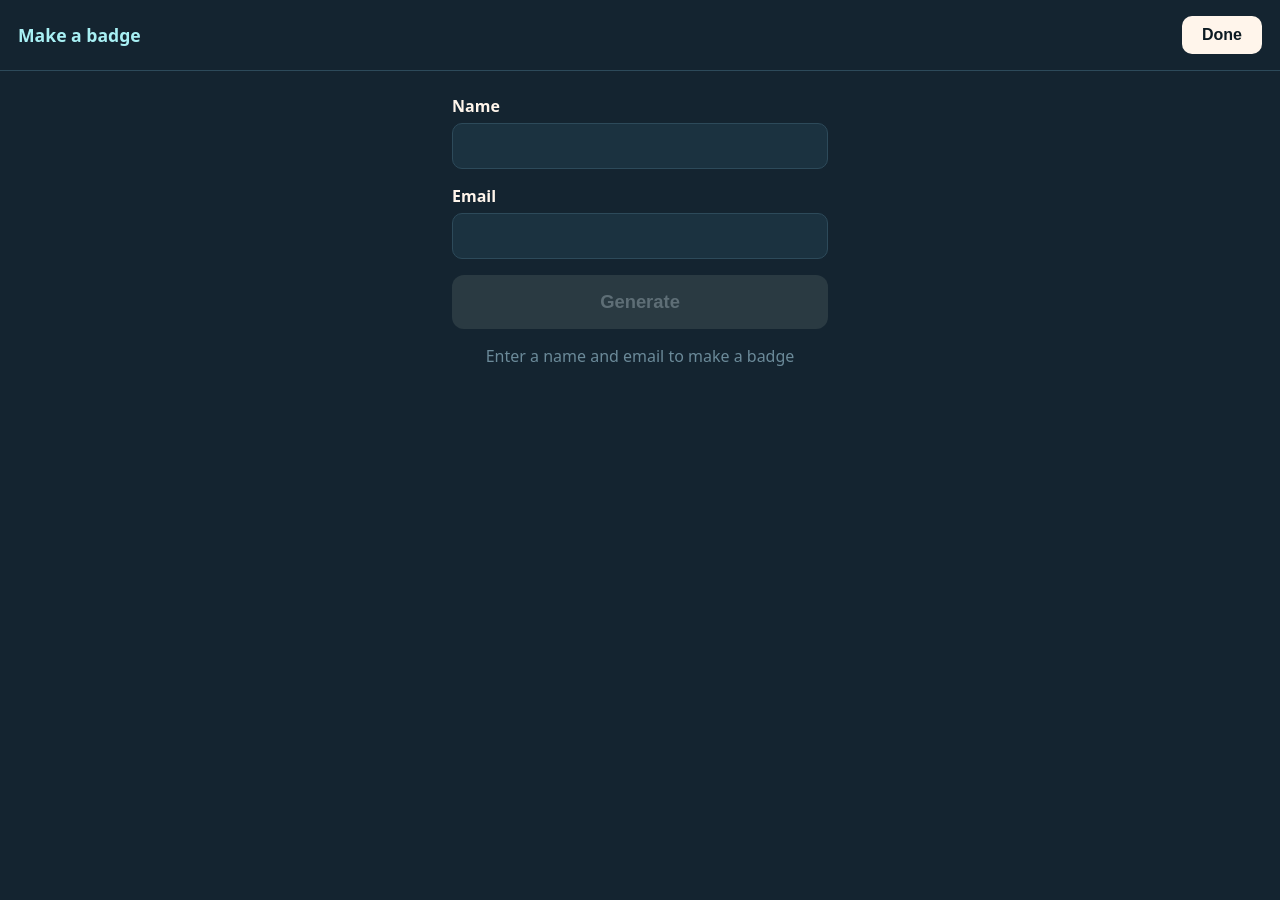
Scenario: BadgeGenerator › shows the cleaned name beneath the rendered Badge
In the field labelled "Name": (640, 146) [452, 123, 828, 169], type "  Ada Lovelace  "
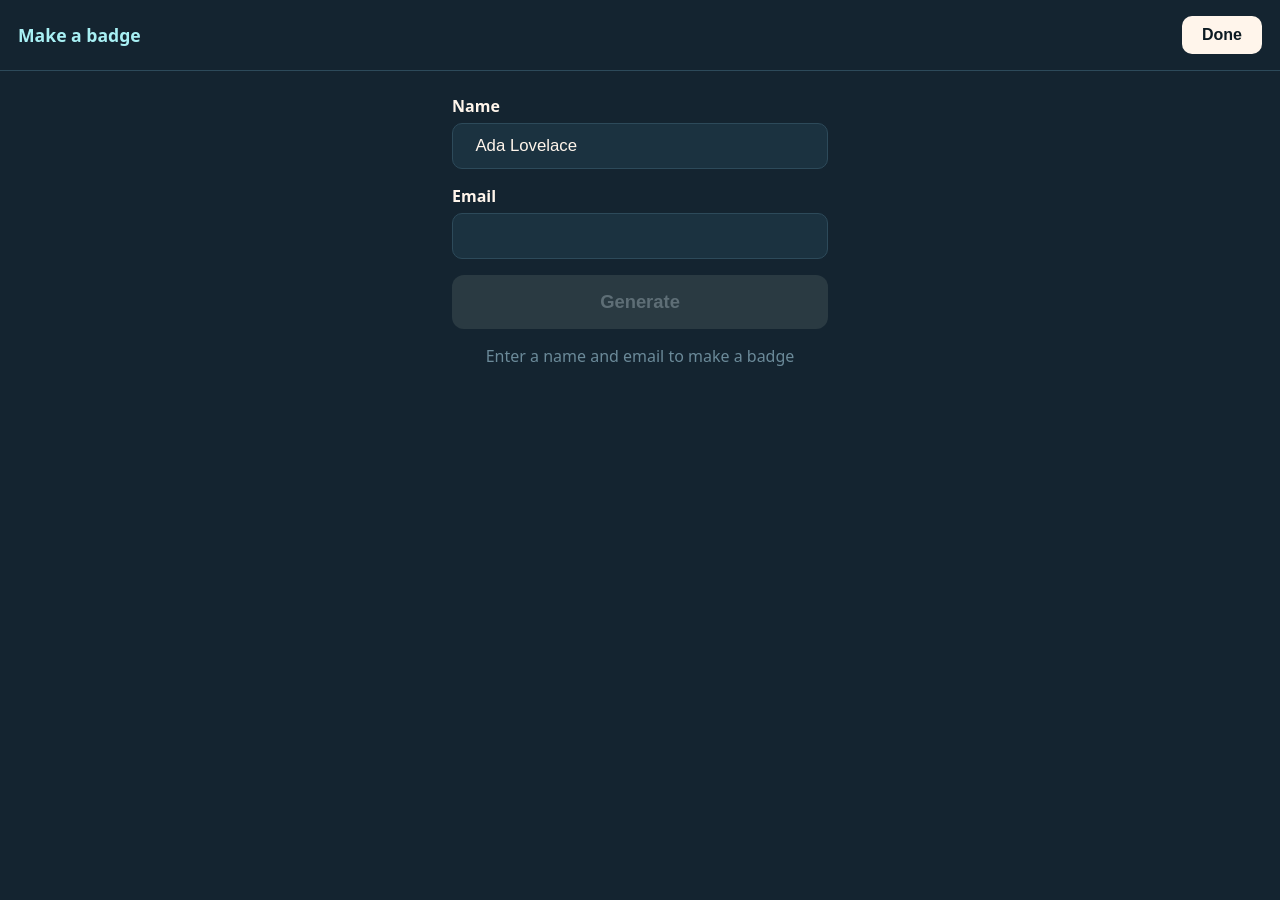
In the field labelled "Email": (640, 236) [452, 213, 828, 259], type "ada@dayofdata.example"
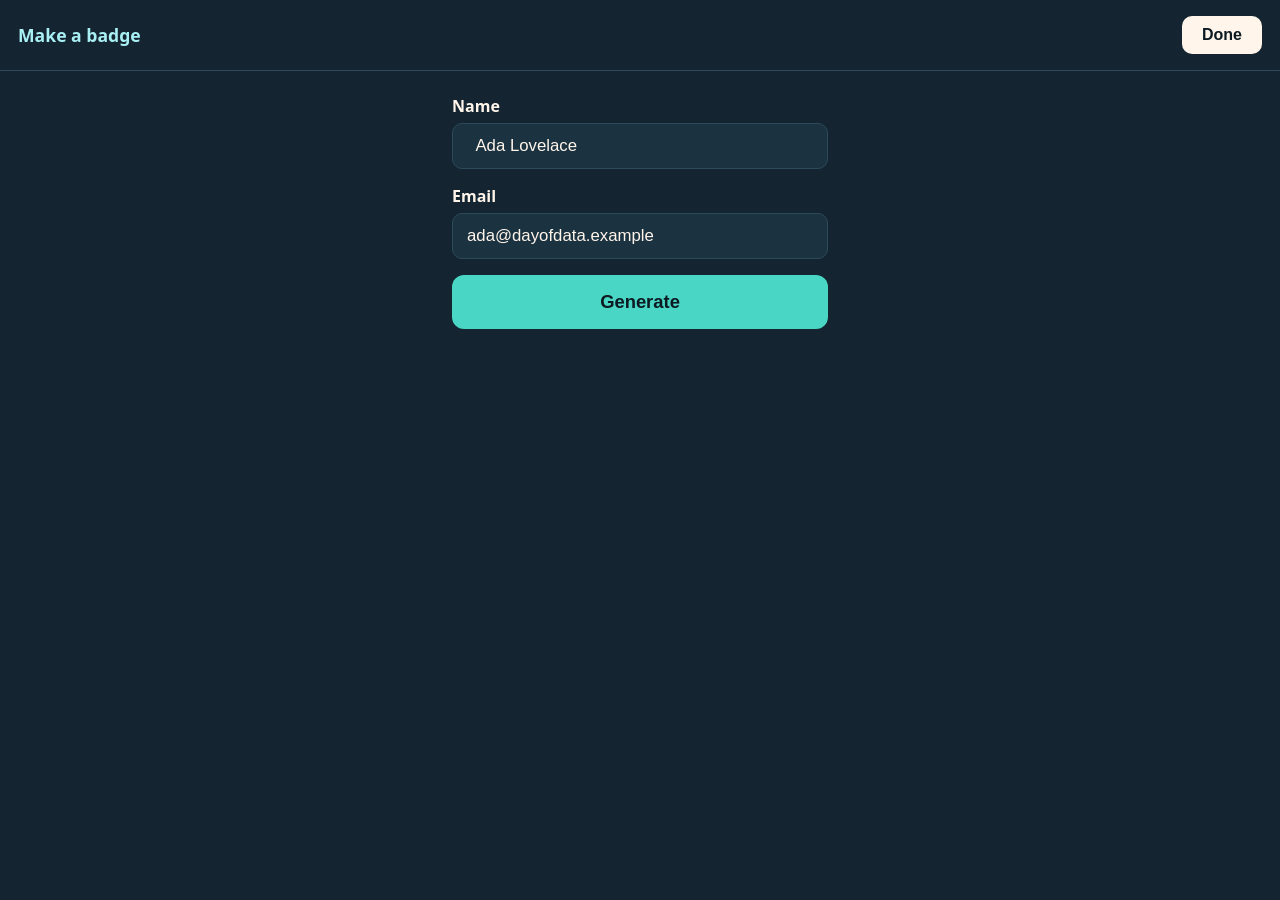
Click the button "Generate": click(640, 302) [452, 275, 828, 329]
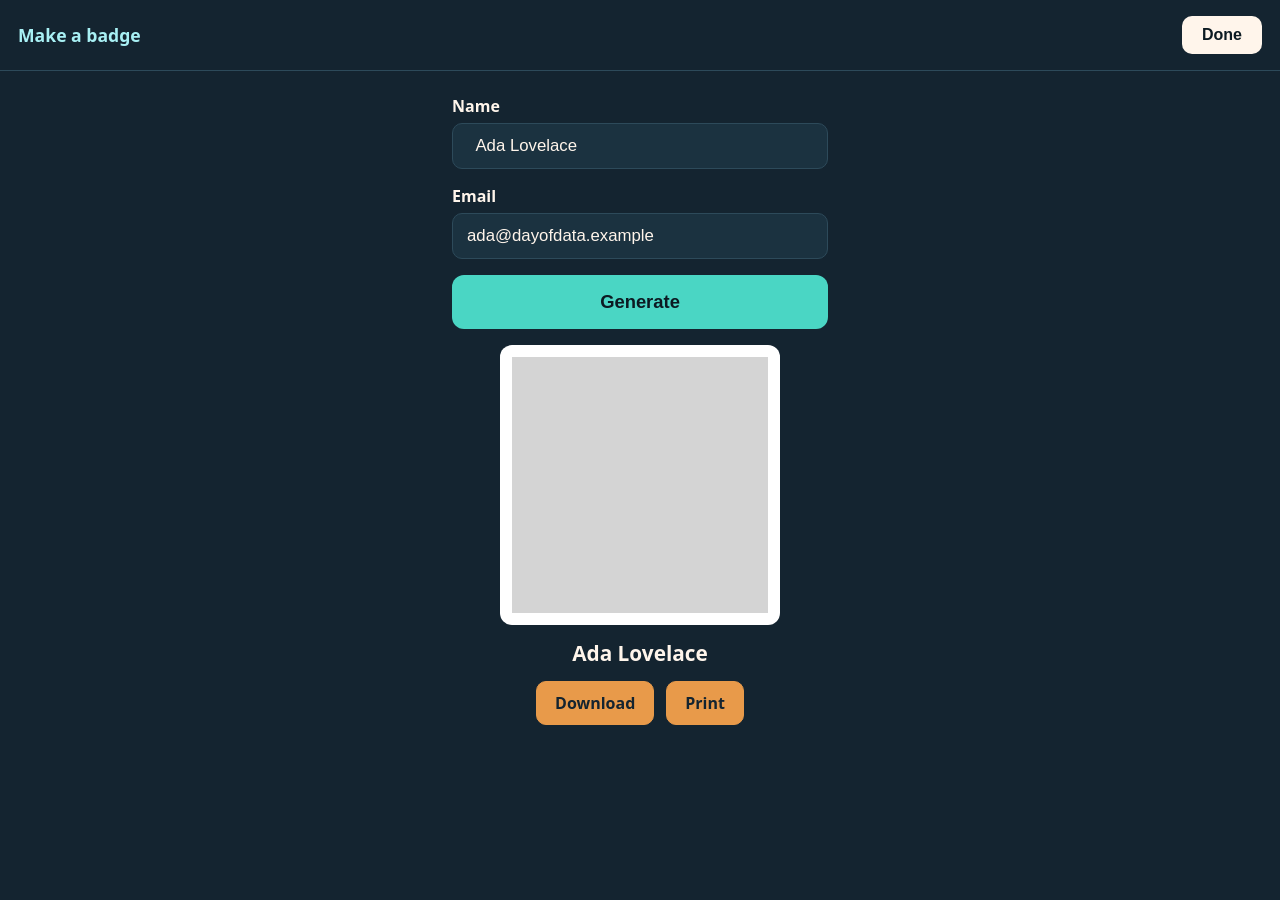
Now the text with test id "badge-name" reads "Ada Lovelace", box [572, 639, 708, 667]
